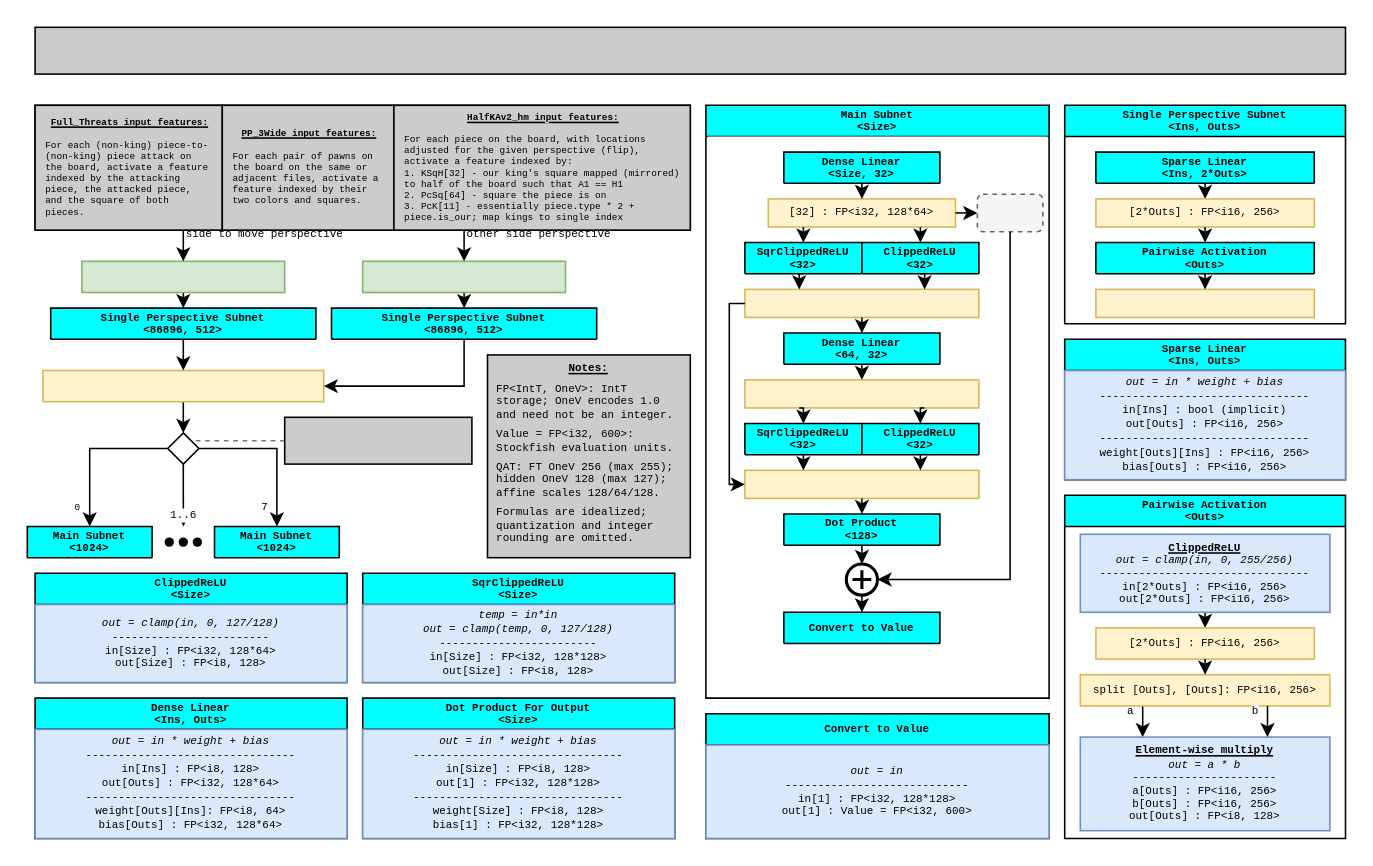
This 1373x866 diagram has some shape labels left out. Here are the shapes that lost their labels. From the top down, the centre of each, then its label:
At (690,50): "Stockfish SFNNv17 evaluation network diagram".
At (1009,212): "skip x30 - x31".
At (182,276): "Input feature set [86896] : bool (implicit)".
At (463,276): "Input feature set [ 86896 ] : bool (implicit)".
At (861,302): "concat [64] : FP<i8, 128>".
At (1204,302): "[Outs] : FP<i8, 128>".
At (182,385): "concat [1024] : FP<i8, 128>".
At (861,393): "[32] : FP<i32, 128*64>".
At (377,440): "Choose element with index (piece_count - 1) / 4".
At (861,483): "concat [128] : FP<i8, 128>".
